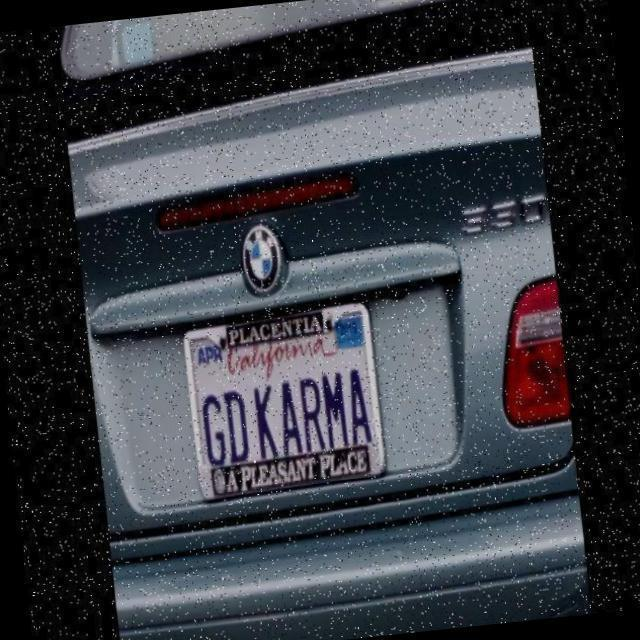license_plate: (184, 303, 388, 501)
